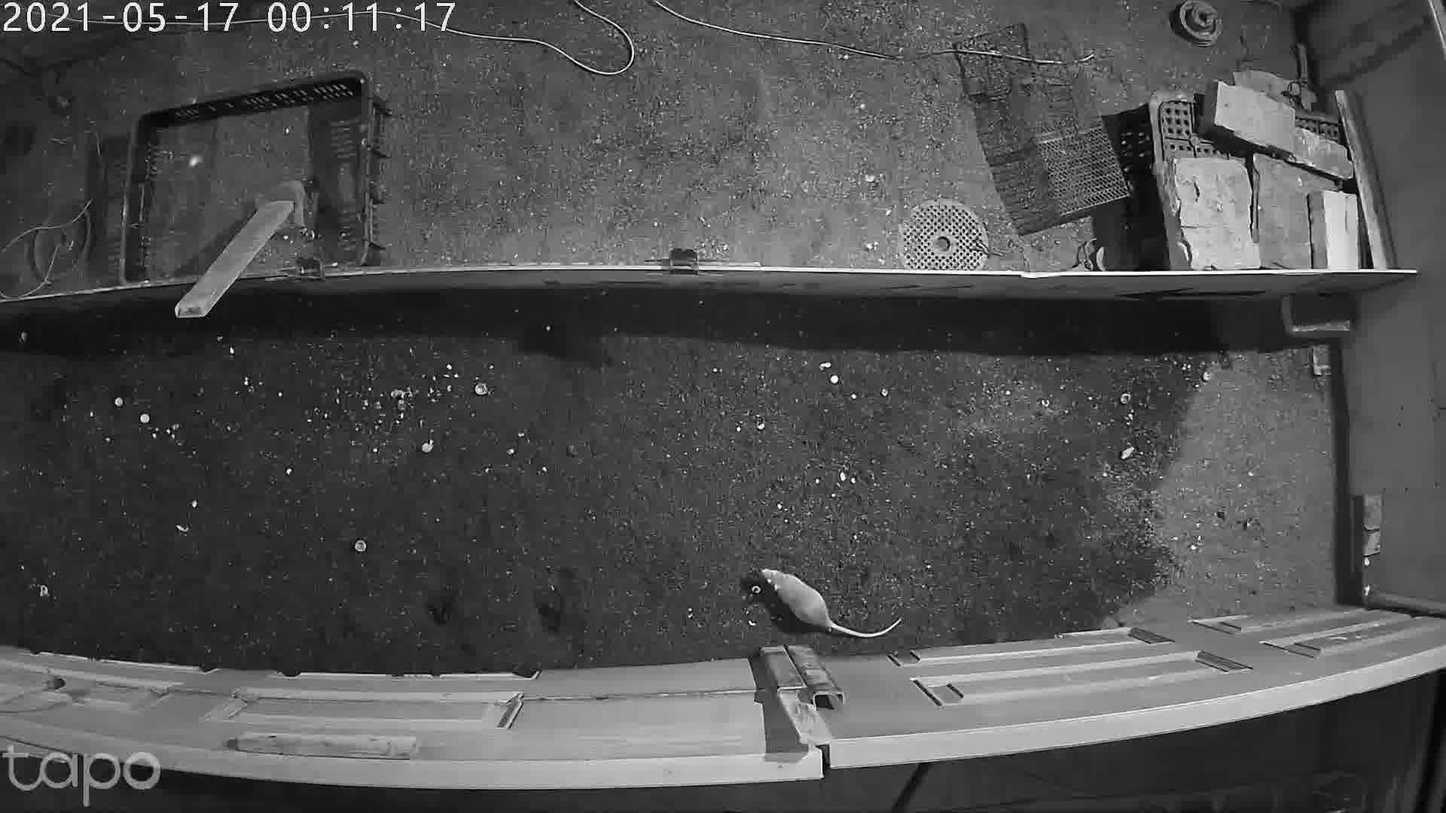rat: (749, 553, 912, 650)
